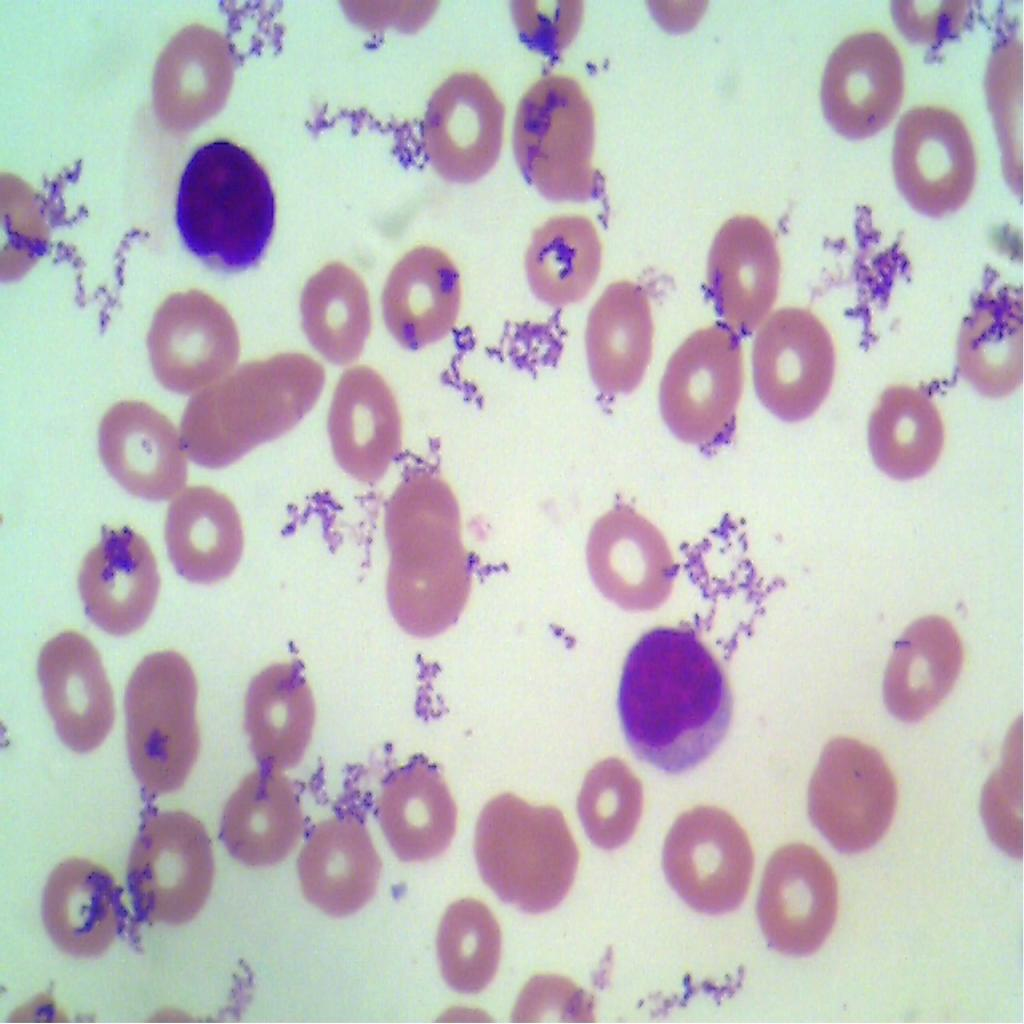Eritrosit: (646, 797, 762, 928), (118, 801, 226, 936), (30, 624, 126, 770), (883, 589, 976, 738), (806, 726, 899, 872), (130, 641, 213, 801), (516, 72, 618, 200), (26, 848, 134, 967), (375, 239, 471, 370), (582, 498, 684, 621), (750, 820, 840, 957), (302, 802, 394, 931), (371, 744, 466, 867), (139, 18, 238, 135), (414, 68, 511, 185), (162, 481, 259, 597), (378, 534, 474, 651), (751, 301, 838, 428), (814, 23, 904, 144), (95, 388, 188, 505), (863, 362, 944, 492), (146, 282, 248, 385), (214, 762, 306, 874), (703, 212, 788, 332), (663, 317, 742, 445), (243, 655, 329, 772), (328, 364, 411, 485), (502, 808, 586, 922), (950, 271, 1024, 399), (893, 105, 970, 227), (170, 362, 252, 472), (76, 514, 159, 621), (586, 278, 656, 398), (433, 887, 504, 1004), (518, 207, 598, 310), (304, 260, 378, 370), (373, 472, 459, 561), (582, 758, 655, 858), (476, 772, 534, 882), (219, 354, 284, 444), (248, 341, 323, 417)
Limfoblast: (168, 132, 295, 284)
Limfosit: (610, 621, 746, 782)
